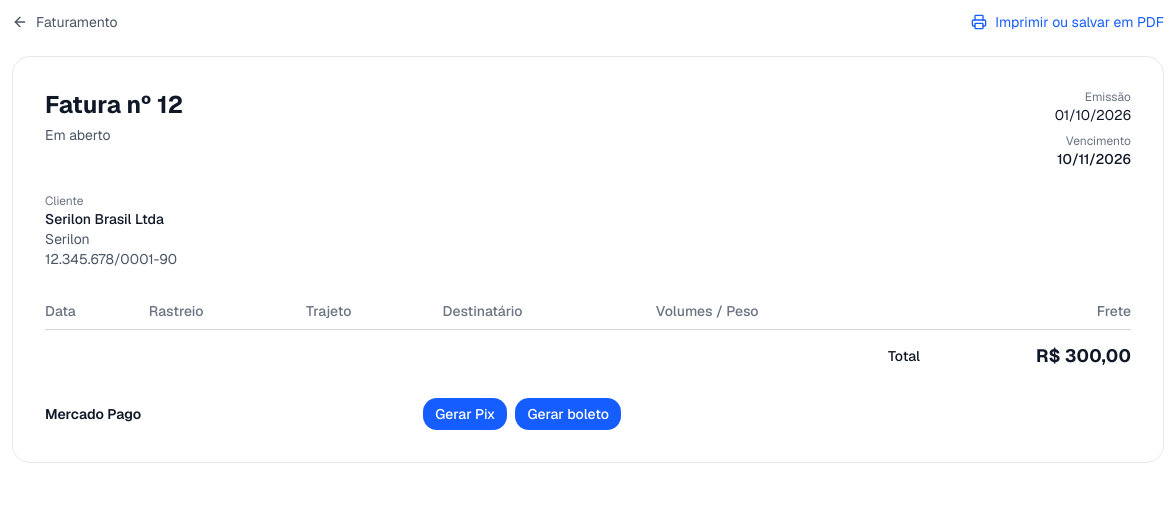
Test: fatura do painel › erro do Mercado Pago aparece como veio; perfil que só lê recebe o recado de que não gera
Expected: the heading "Fatura nº 12" is shown, [45,89,183,121]
Click the button "Gerar boleto". click: coordinates (568, 414)
box: [515,398,621,430]
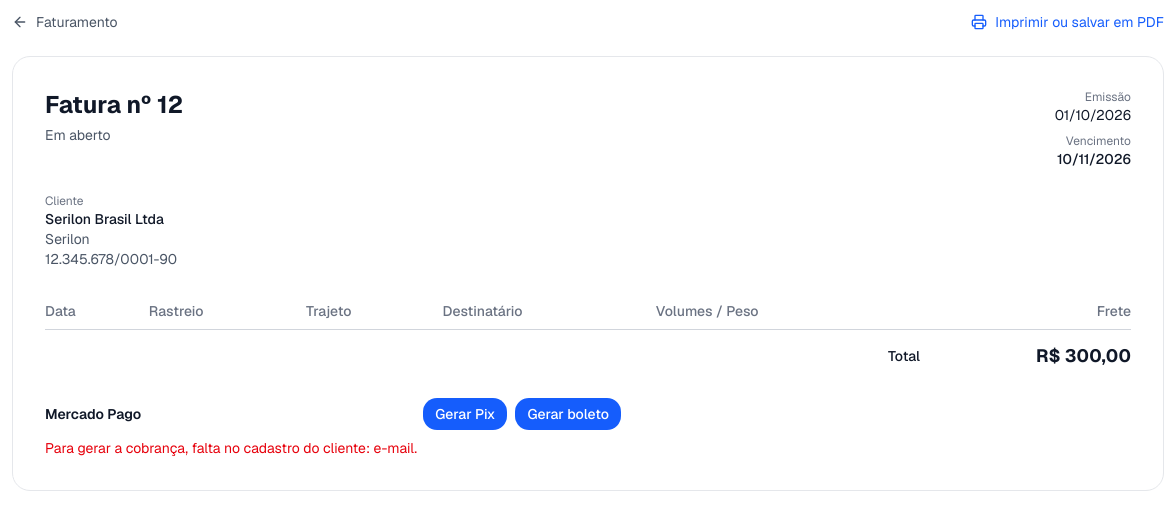
Now the message "Para gerar a cobrança, falta no cadastro do cliente: e-mail." is shown, box [45,439,417,457]
Click the button "Gerar Pix". click: coordinates (465, 414)
box: [423,398,507,430]
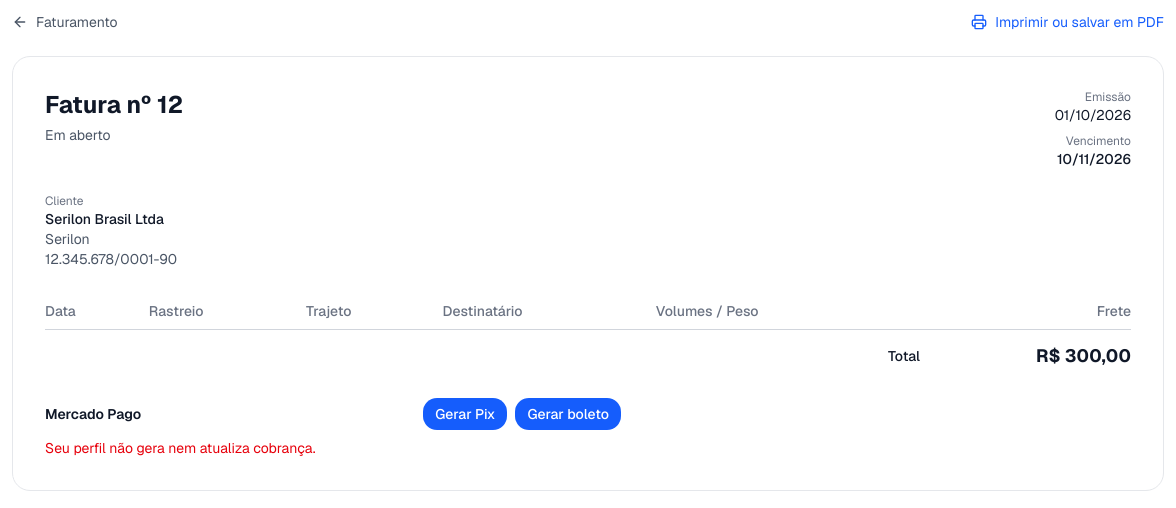
Now the message "Seu perfil não gera nem atualiza cobrança." is shown, box [45,439,316,457]
